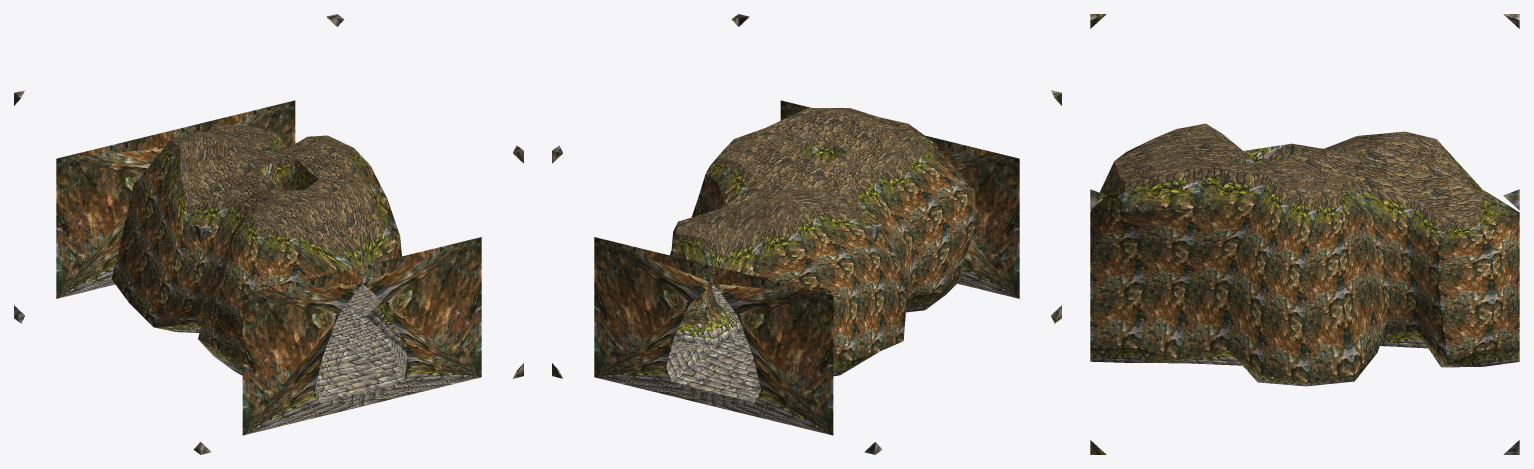
File: lbc_2f.glb
The picture shows the model from 3 angles, left to right: view 1: azimuth 30°, elevation 25°; view 2: azimuth 150°, elevation 25°; view 3: azimuth 270°, elevation 25°; orthographic projection. The views are drawn at different scales.
Parts seen in each view (by area): view 1: lbc_2f; view 2: lbc_2f; view 3: lbc_2f.
Part boxes in pixels (x1,y1,x2,y2): lbc_2f: [14, 14, 523, 454]; lbc_2f: [552, 14, 1061, 454]; lbc_2f: [1090, 14, 1519, 454].
Bounding box in the file's own units: 15 × 10 × 15.
Materials: 4 (4 with a texture image).
